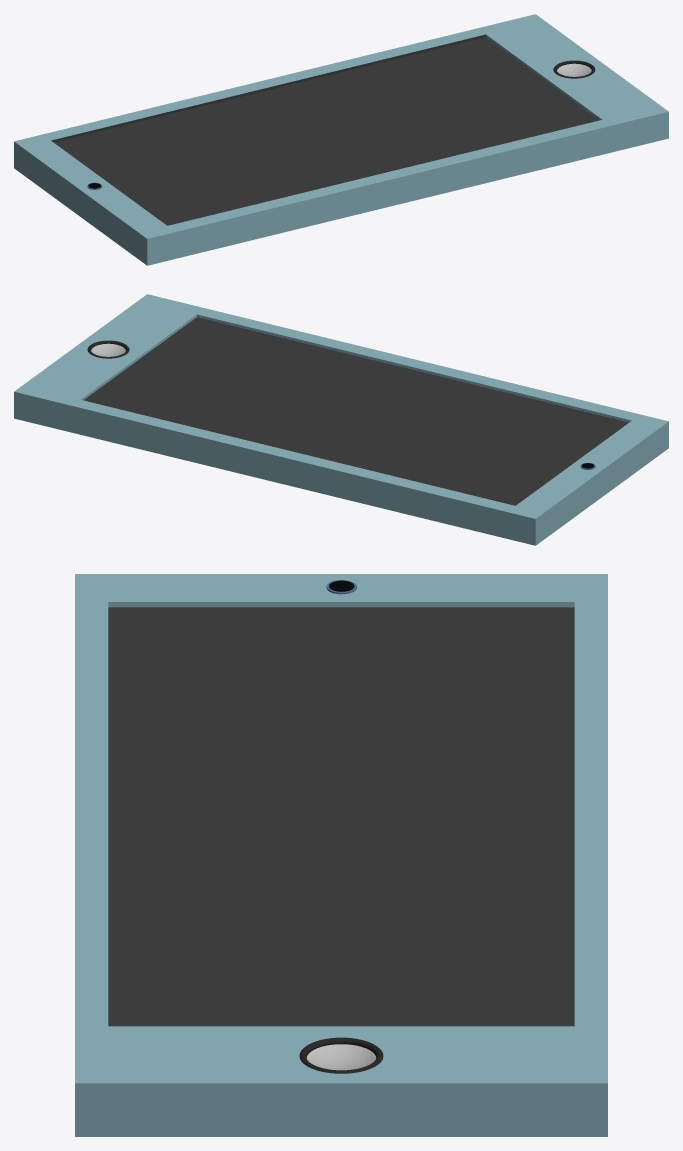
File: phone.fbx
The picture shows the model from 3 angles, top to bottom: view 1: azimuth 30°, elevation 25°; view 2: azimuth 150°, elevation 25°; view 3: azimuth 270°, elevation 25°; orthographic projection. The views are drawn at different scales.
Parts seen in each view (by area): view 1: pCube4; view 2: pCube4; view 3: pCube4, pTorus1.
Boxes of the visible parts, x1=… form: pCube4: x1=14, y1=14, x2=668, y2=265; pCube4: x1=14, y1=294, x2=668, y2=545; pCube4: x1=75, y1=574, x2=607, y2=1136; pTorus1: x1=299, y1=1037, x2=383, y2=1073.
Bounding box in the file's own units: 12.2 × 0.6213 × 5.4.
